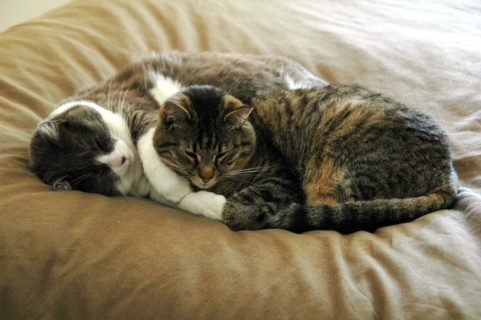Cat: (29, 46, 328, 220), (150, 80, 459, 231)
